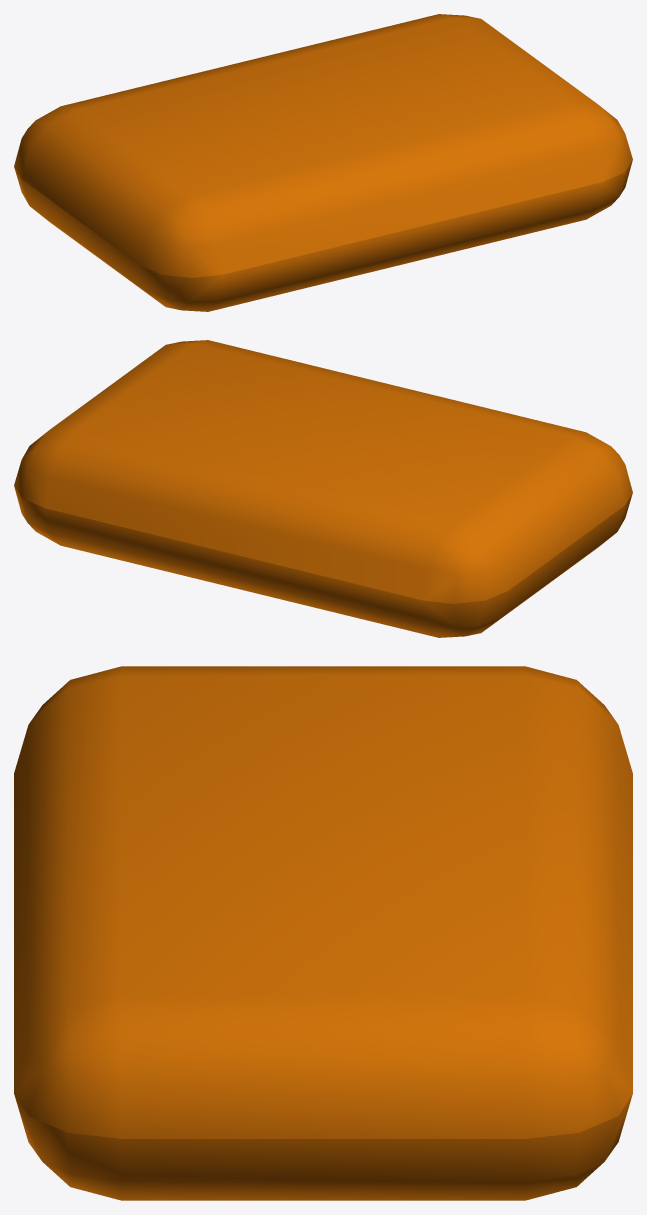
File: retangulo laranja.fbx
3 renders of one model, top to bottom at view 1: azimuth 30°, elevation 25°; view 2: azimuth 150°, elevation 25°; view 3: azimuth 270°, elevation 25°, orthographic. The views are drawn at different scales.
Visible parts, largest first — view 1: Cube.009; view 2: Cube.009; view 3: Cube.009.
Part boxes in pixels (x1,y1,x2,y2): Cube.009: (14,14,632,311); Cube.009: (14,340,632,637); Cube.009: (14,666,632,1200).
Bounding box in the file's own units: 0.3699 × 0.082 × 0.2355.
